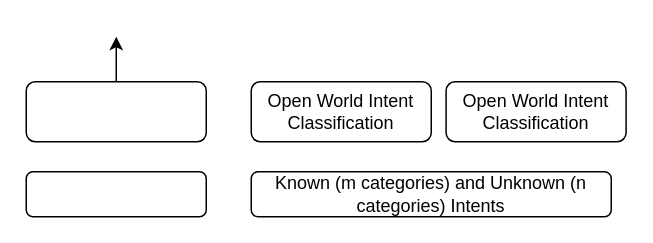
Some shapes in this 653 by 243 pixel diagram are drawn without their labels. The shapes that lost their labels are listed below. From the top down, each one's box as (x1, y1, x2, y2) in pixels, then its label:
(25, 80, 206, 142): Closer World Intent Classification
(25, 170, 206, 217): Known Intents (m categories)
